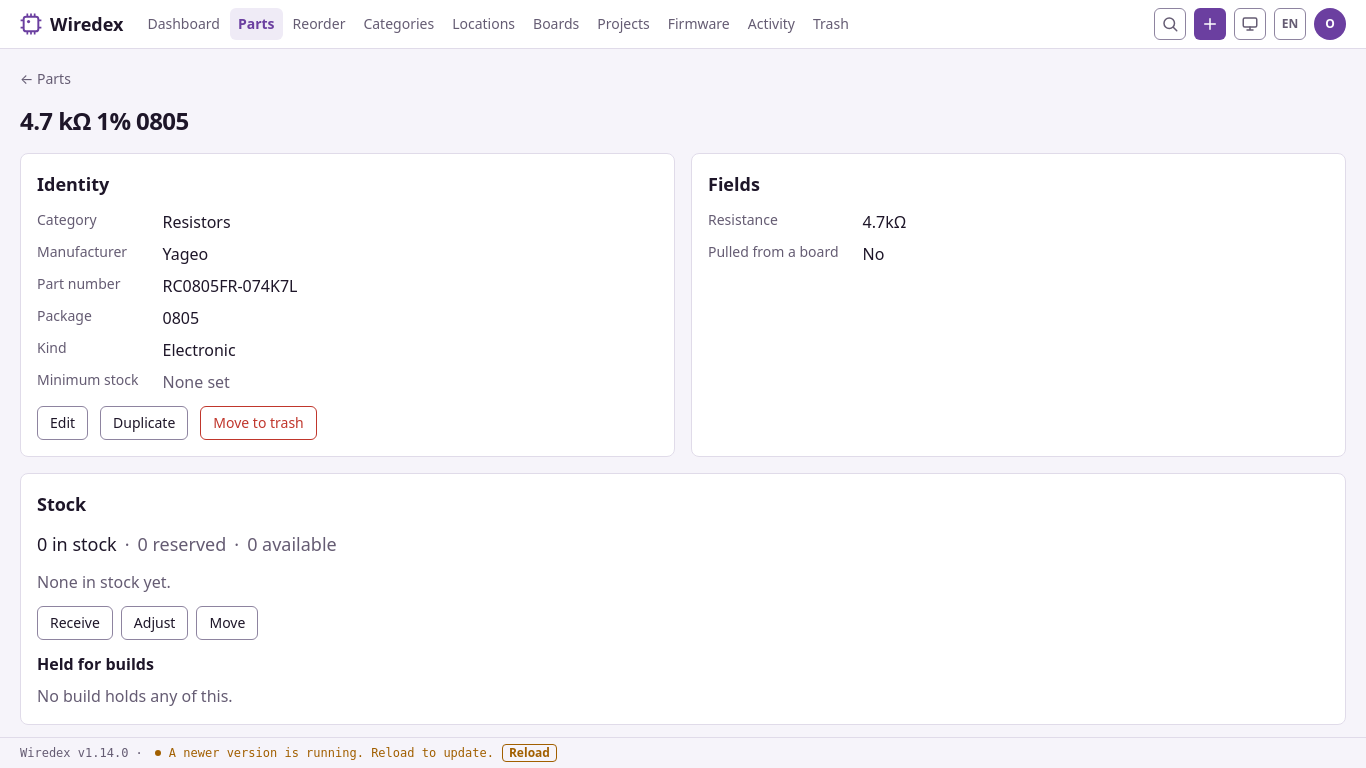
Test: PartPage › edits the part, starting from what is stored
The image size is (1366, 768).
Click the button "Edit" at (63, 423), box [37,406,88,440]
(page scrolled)
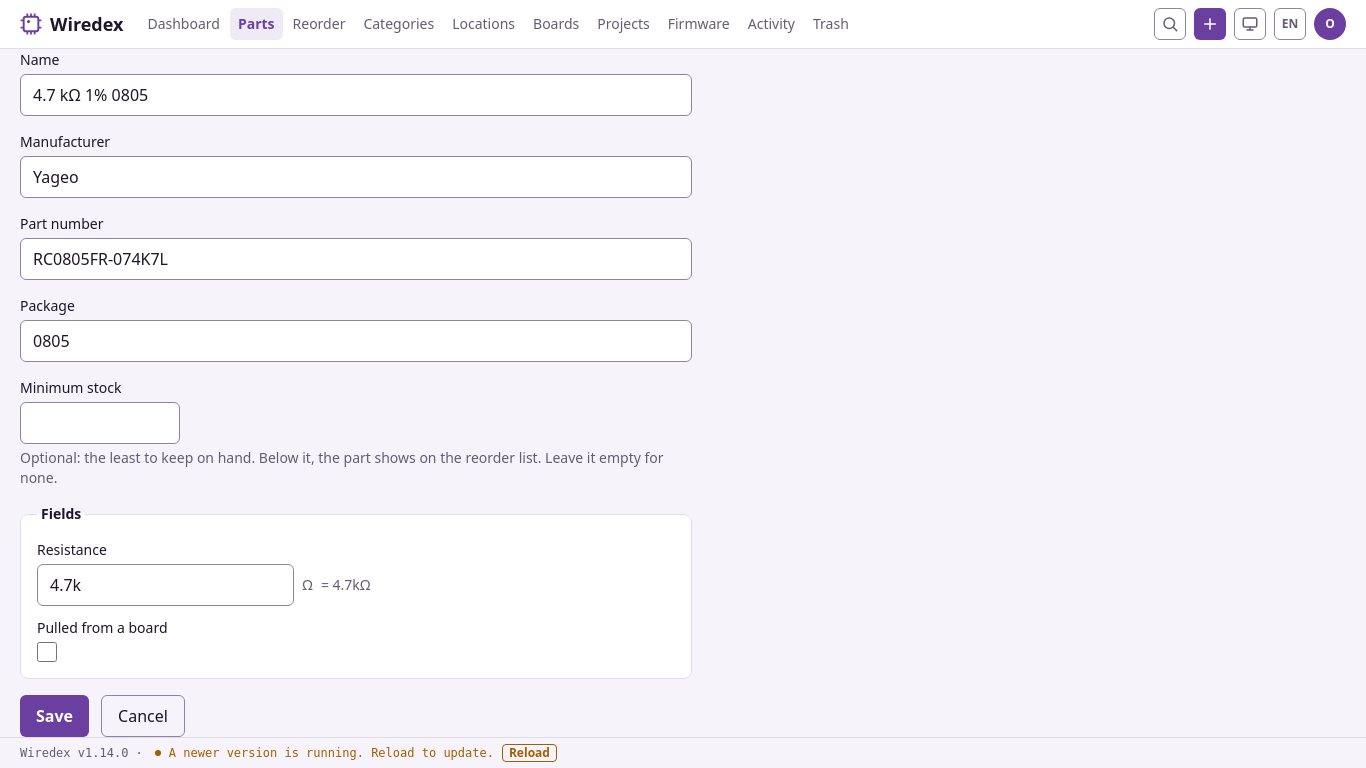
Now the field labelled "Resistance" holds "4.7k"
Replace the text in the field labelled "Resistance" with "10k" at (166, 585), box [37,564,294,606]
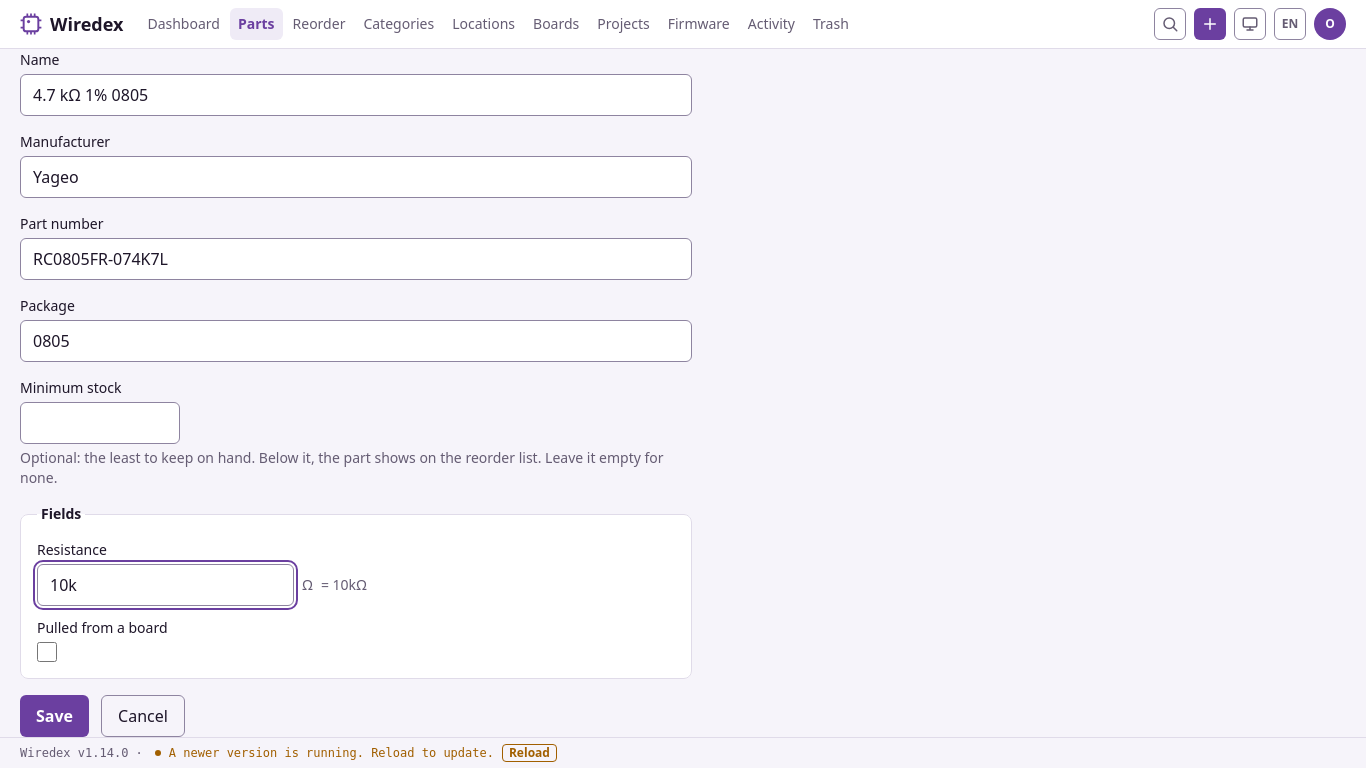
Click the button "Save" at (54, 716), box [20,695,89,737]
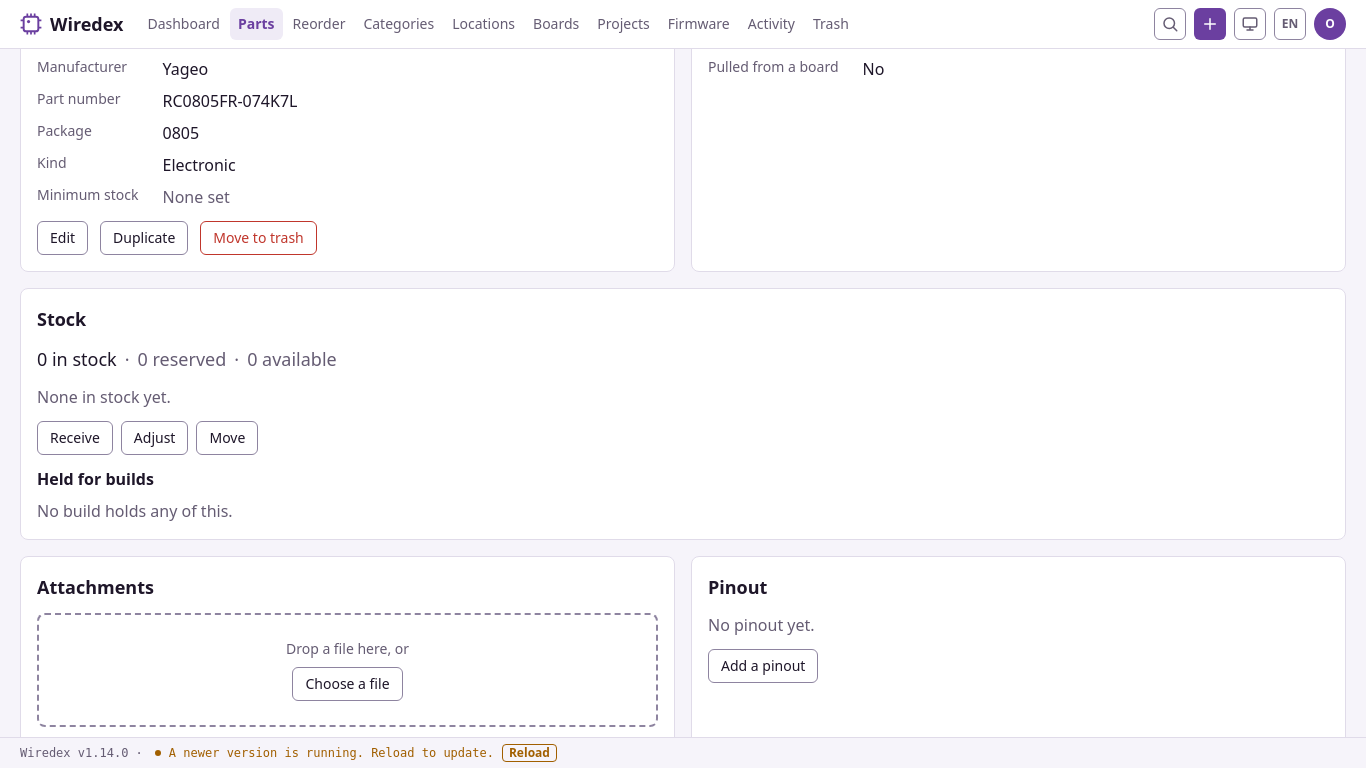
Now the button "Edit" is shown, box [37,221,88,255]
